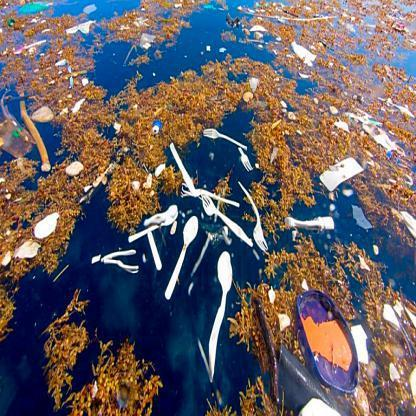Plastic: (290, 284, 363, 394), (207, 247, 233, 382), (162, 218, 200, 303), (133, 206, 180, 271)
